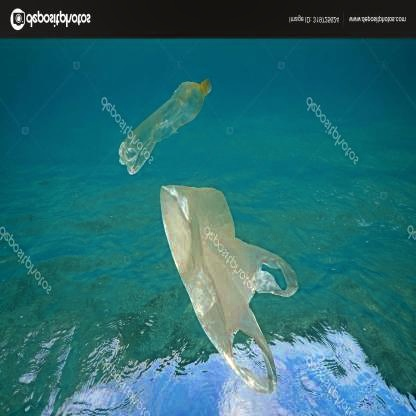pbag: (160, 183, 300, 395)
pbottle: (117, 77, 213, 177)
